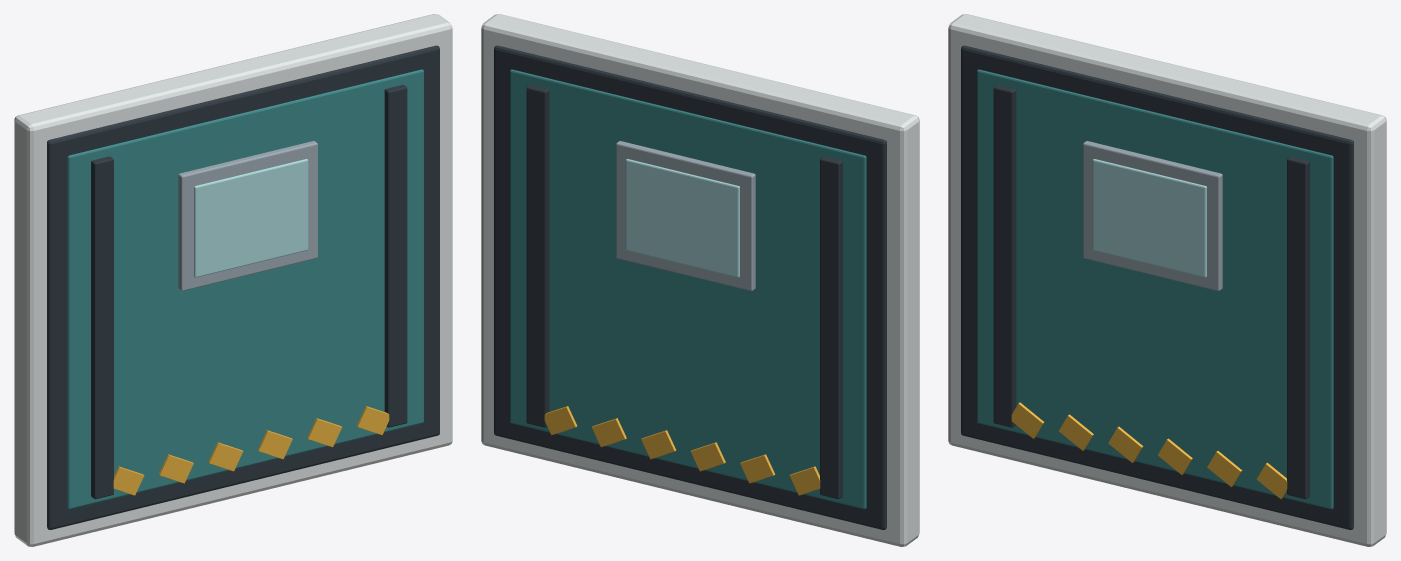
Rendered from containment-door.glb.
3 views of the same model, side by side, from view 1: azimuth 30°, elevation 25°; view 2: azimuth 150°, elevation 25°; view 3: azimuth 330°, elevation 25° (orthographic).
Parts seen in each view (by area): view 1: Door inset, Sealed slab, Gasket, Observation pane, Lock rail.001, Lock rail, Observation frame, Warning marker.002, Warning marker.003, Warning marker.004, Warning marker.001, Warning marker.005 (+1 smaller); view 2: Door inset.001, Sealed slab, Gasket.001, Observation pane.001, Lock rail.003, Lock rail.002, Observation frame.001, Warning marker.008, Warning marker.009, Warning marker.010, Warning marker.007, Warning marker.011 (+1 smaller); view 3: Door inset, Sealed slab, Gasket, Observation pane, Lock rail, Lock rail.001, Observation frame, Warning marker.002, Warning marker.003, Warning marker.004, Warning marker.001, Warning marker (+1 smaller).
Part boxes in pixels (x1,y1,x2,y2): Door inset: (67, 69, 423, 509); Sealed slab: (14, 14, 452, 546); Gasket: (47, 45, 439, 529); Observation pane: (194, 159, 308, 277); Lock rail.001: (384, 85, 407, 427); Lock rail: (91, 156, 113, 499); Observation frame: (178, 141, 317, 291); Warning marker.002: (208, 442, 243, 471); Warning marker.003: (257, 430, 292, 459); Warning marker.004: (307, 418, 342, 447); Warning marker.001: (158, 454, 193, 483); Warning marker.005: (356, 406, 389, 435); Door inset.001: (510, 69, 866, 509); Sealed slab: (481, 14, 919, 546); Gasket.001: (494, 45, 886, 529); Observation pane.001: (625, 159, 739, 277); Lock rail.003: (526, 85, 549, 427); Lock rail.002: (820, 156, 842, 499); Observation frame.001: (616, 141, 755, 291); Warning marker.008: (690, 442, 725, 471); Warning marker.009: (641, 430, 676, 459); Warning marker.010: (591, 418, 626, 447); Warning marker.007: (740, 454, 775, 483); Warning marker.011: (544, 406, 577, 435); Door inset: (977, 69, 1333, 509); Sealed slab: (948, 14, 1386, 546); Gasket: (961, 45, 1353, 529); Observation pane: (1092, 159, 1206, 277); Lock rail: (993, 85, 1016, 427); Lock rail.001: (1287, 156, 1309, 499); Observation frame: (1083, 141, 1222, 291); Warning marker.002: (1108, 426, 1143, 462); Warning marker.003: (1157, 438, 1192, 474); Warning marker.004: (1207, 451, 1242, 486); Warning marker.001: (1059, 414, 1093, 450); Warning marker: (1011, 402, 1044, 438).
Bounding box in the file's own units: 2.58 × 2.45 × 0.3876.
